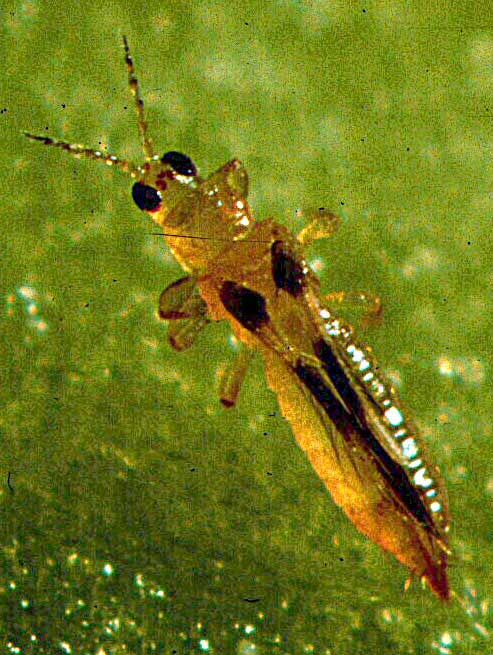Thrips: (17, 1, 479, 625)
